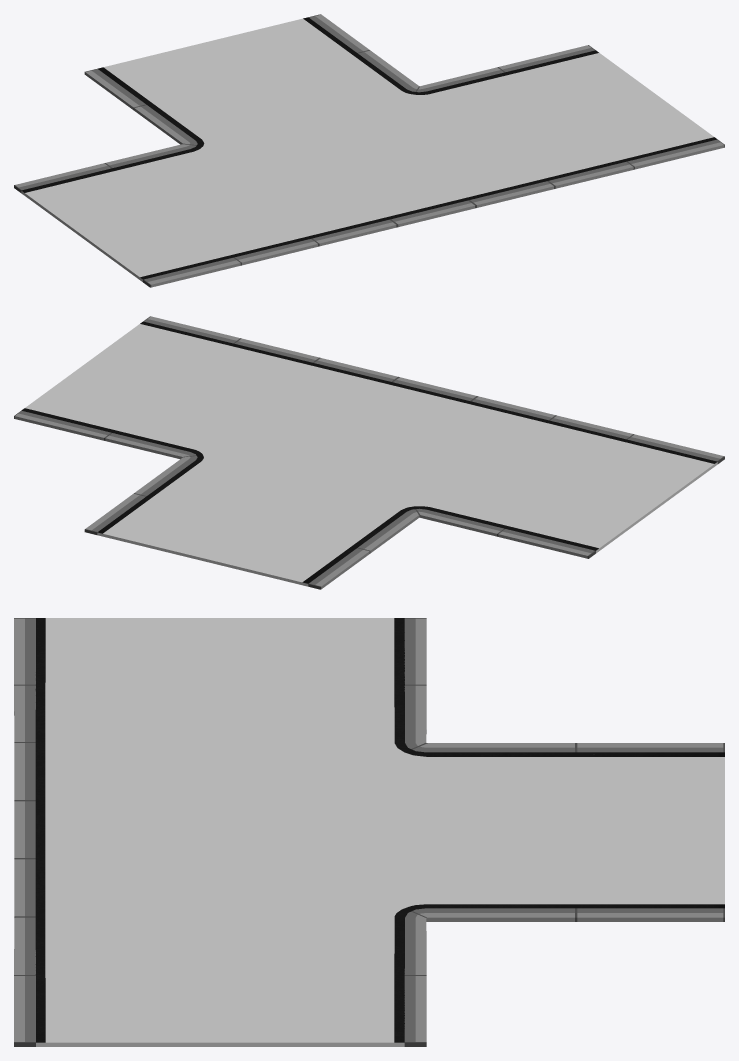
The model's file is Road4.fbx.
3 renders of one model, top to bottom at view 1: azimuth 30°, elevation 25°; view 2: azimuth 150°, elevation 25°; view 3: azimuth 270°, elevation 25°, orthographic. The views are drawn at different scales.
Visible parts, largest first — view 1: Cube.006; view 2: Cube.006; view 3: Cube.006.
Boxes of the visible parts, left/top/right/bottom form: Cube.006: left=14, top=14, right=724, bottom=287; Cube.006: left=14, top=316, right=724, bottom=589; Cube.006: left=14, top=618, right=724, bottom=1046.
Bounding box in the file's own units: 1050 × 5 × 743.
